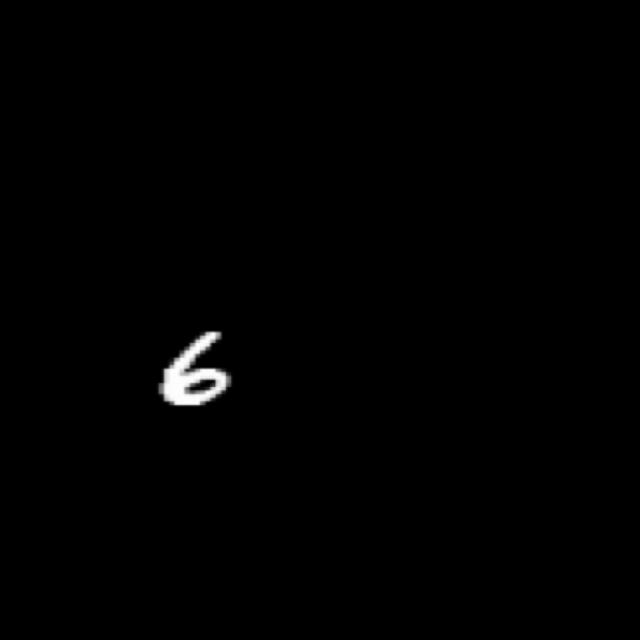six -6-: (150, 322, 247, 418)
